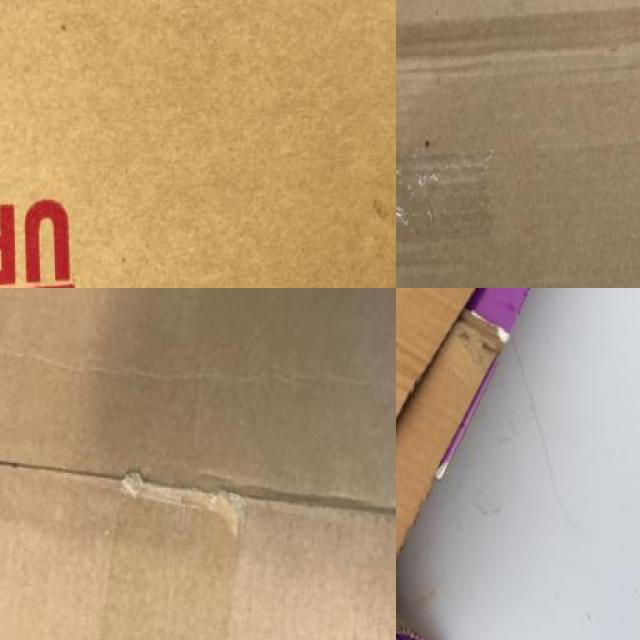class_name: (0, 288, 396, 640), (0, 0, 396, 288), (396, 0, 640, 288), (396, 288, 583, 640)
